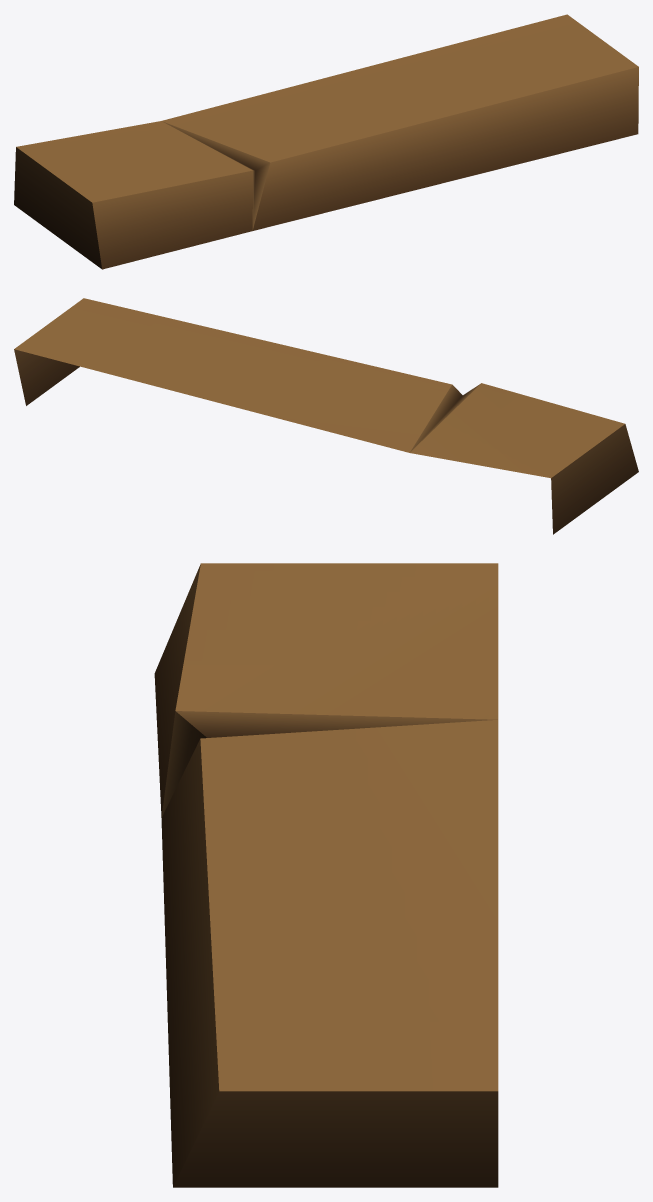
Rendered from Stairs_05B.fbx.
3 renders of one model, top to bottom at view 1: azimuth 30°, elevation 25°; view 2: azimuth 150°, elevation 25°; view 3: azimuth 270°, elevation 25°, orthographic. The views are drawn at different scales.
Parts seen in each view (by area): view 1: Stairs_05B; view 2: Stairs_05B; view 3: Stairs_05B.
Part boxes in pixels (x1,y1,x2,y2): Stairs_05B: (14,14,638,269); Stairs_05B: (14,298,638,534); Stairs_05B: (154,563,498,1187).
Bounding box in the file's own units: 163 × 16.2 × 44.98.
Materials: 1 (1 with a texture image).
